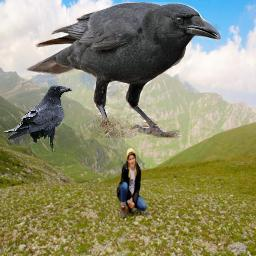Crow: (26, 2, 221, 138), (3, 85, 72, 152)
